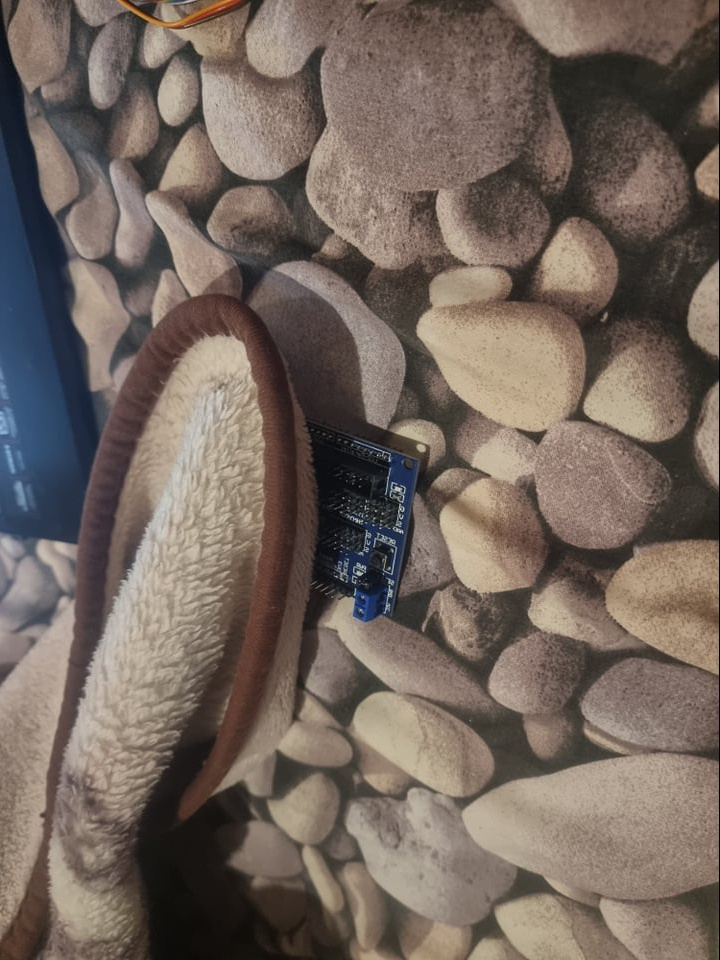5V EXPANSION: (301, 416, 424, 623)
